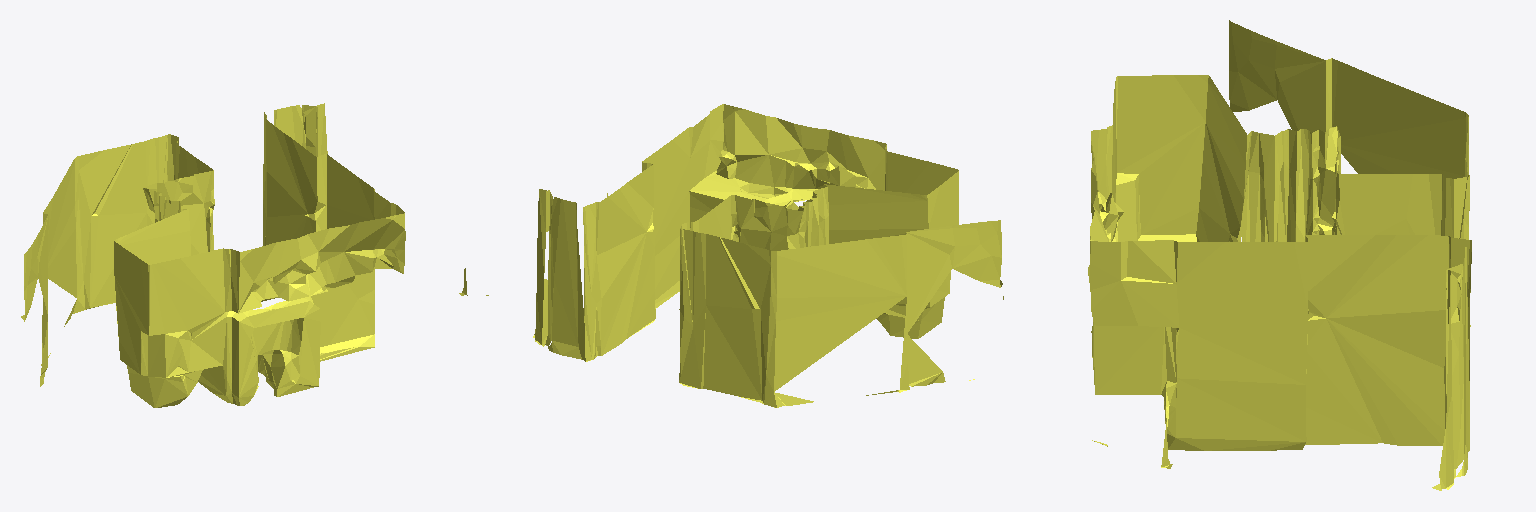
URDF robot description (env.urdf):
<?xml version="0.0" ?>
<robot name="env.urdf">
  <link name="baseLink">
    <contact>
      <lateral_friction value="1.0"/>
      <rolling_friction value="0.0"/>
      <contact_cfm value="0.0"/>
      <contact_erp value="1.0"/>
    </contact>
    <inertial>
      <origin rpy="0 0 0" xyz="0.0 0.02 0.0"/>
       <mass value="0"/>
       <inertia ixx="1" ixy="0" ixz="0" iyy="1" iyz="0" izz="1"/>
    </inertial>
    <visual>
      <origin rpy="0 0 0" xyz="0 0 0"/>
      <geometry>
        <mesh filename="br1.obj" scale="1 1 1"/>
      </geometry>
       <material name="yellow">
        <color rgba="1 1 0.4 1"/>
      </material>
    </visual>
    <collision>
      <origin rpy="0 0 0" xyz="0 0 0"/>
      <geometry>
	 	<mesh filename="br1.obj" scale="1 1 1"/>
      </geometry>
    </collision>
  </link>
</robot>

--- What the picture shows (computed from the rendered views, not written in the file) ---
Views: 3 orthographic renders of the robot side by side, from view 1: azimuth 30°, elevation 25°; view 2: azimuth 150°, elevation 25°; view 3: azimuth 270°, elevation 25°.
Robot: env.urdf — 1 links, 0 joints (none); root link baseLink; default pose: every joint at zero.
Visible links, largest first — view 1: baseLink; view 2: baseLink; view 3: baseLink.
Boxes of the visible links, left/top/right/bottom form: baseLink: left=21, top=103, right=488, bottom=407; baseLink: left=533, top=104, right=1003, bottom=407; baseLink: left=1088, top=20, right=1471, bottom=490.
Size in the robot's own frame: 4.24 by 2.46 by 1.53 metres.
Meshes: 1 distinct files referenced, 1 mesh visuals loaded (1 OBJ).